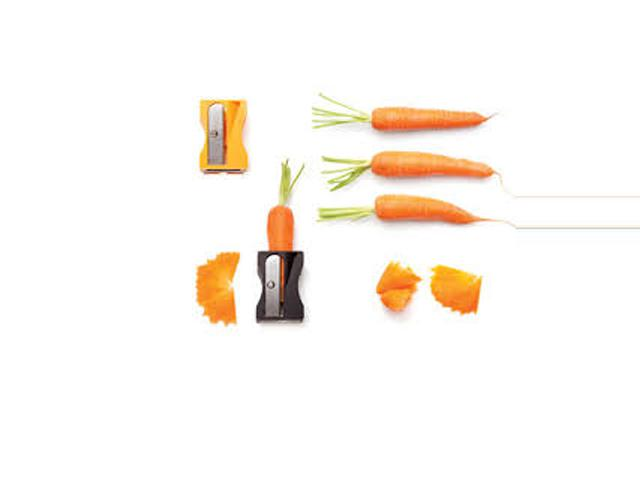carrot: (358, 178, 483, 241)
